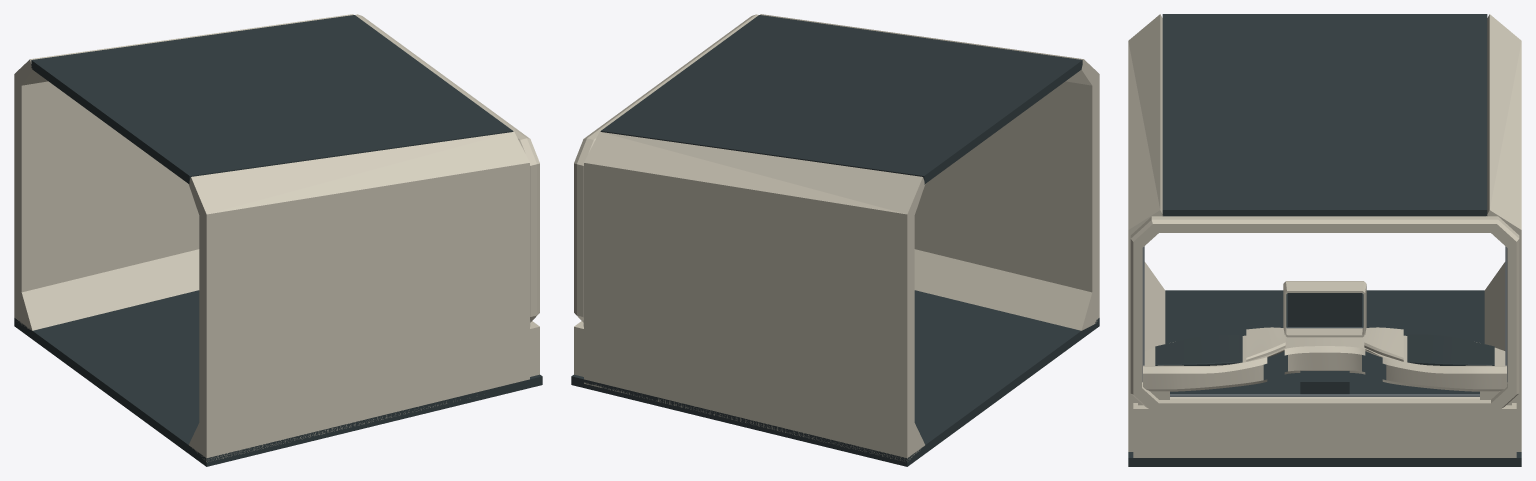
File: forward-bay-proof.glb
3 views of the same model, side by side, from view 1: azimuth 30°, elevation 25°; view 2: azimuth 150°, elevation 25°; view 3: azimuth 270°, elevation 25° (orthographic). The views are drawn at different scales.
Visible parts, largest first — view 1: enclosure.starboard-sidewall, enclosure.raked-overhead, enclosure.port-sidewall, enclosure.deck, enclosure.starboard-upper-haunch, enclosure.starboard-lower-haunch, enclosure.port-lower-haunch, panorama.structural-surround, enclosure.port-upper-haunch; view 2: enclosure.port-sidewall, enclosure.raked-overhead, enclosure.starboard-sidewall, enclosure.deck, enclosure.port-upper-haunch, enclosure.port-lower-haunch, enclosure.starboard-lower-haunch, panorama.structural-surround, enclosure.starboard-upper-haunch; view 3: enclosure.raked-overhead, enclosure.deck, enclosure.forward-sill-apron, panorama.structural-surround, console.continuous-dashboard-shell, enclosure.port-upper-haunch, enclosure.starboard-upper-haunch, instrument.central-substrate, console.starboard-inset-worktop, console.port-inset-worktop, instrument.central-sculpted-case, enclosure.starboard-lower-haunch (+7 smaller).
Part boxes in pixels (x1=…): enclosure.starboard-sidewall: x1=199, y1=163, x2=529, y2=427; enclosure.raked-overhead: x1=31, y1=15, x2=513, y2=183; enclosure.port-sidewall: x1=14, y1=74, x2=199, y2=292; enclosure.deck: x1=14, y1=290, x2=542, y2=466; enclosure.starboard-upper-haunch: x1=188, y1=132, x2=529, y2=215; enclosure.starboard-lower-haunch: x1=189, y1=349, x2=529, y2=462; enclosure.port-lower-haunch: x1=14, y1=249, x2=199, y2=330; panorama.structural-surround: x1=355, y1=14, x2=539, y2=322; enclosure.port-upper-haunch: x1=15, y1=14, x2=353, y2=85; enclosure.port-sidewall: x1=584, y1=163, x2=914, y2=427; enclosure.raked-overhead: x1=600, y1=15, x2=1082, y2=184; enclosure.starboard-sidewall: x1=914, y1=74, x2=1099, y2=292; enclosure.deck: x1=571, y1=290, x2=1099, y2=466; enclosure.port-upper-haunch: x1=584, y1=132, x2=925, y2=215; enclosure.port-lower-haunch: x1=584, y1=349, x2=924, y2=461; enclosure.starboard-lower-haunch: x1=914, y1=249, x2=1099, y2=330; panorama.structural-surround: x1=574, y1=14, x2=758, y2=322; enclosure.starboard-upper-haunch: x1=760, y1=14, x2=1098, y2=85; enclosure.raked-overhead: x1=1162, y1=14, x2=1487, y2=216; enclosure.deck: x1=1128, y1=290, x2=1521, y2=466; enclosure.forward-sill-apron: x1=1133, y1=403, x2=1516, y2=457; panorama.structural-surround: x1=1130, y1=216, x2=1519, y2=412; console.continuous-dashboard-shell: x1=1143, y1=335, x2=1506, y2=391; enclosure.port-upper-haunch: x1=1486, y1=14, x2=1521, y2=232; enclosure.starboard-upper-haunch: x1=1128, y1=14, x2=1162, y2=232; instrument.central-substrate: x1=1288, y1=293, x2=1361, y2=326; console.starboard-inset-worktop: x1=1155, y1=334, x2=1242, y2=365; console.port-inset-worktop: x1=1407, y1=334, x2=1494, y2=365; instrument.central-sculpted-case: x1=1283, y1=281, x2=1366, y2=337; enclosure.starboard-lower-haunch: x1=1128, y1=262, x2=1165, y2=451.
Bounding box in the file's own units: 3.23 × 2.56 × 3.2.
